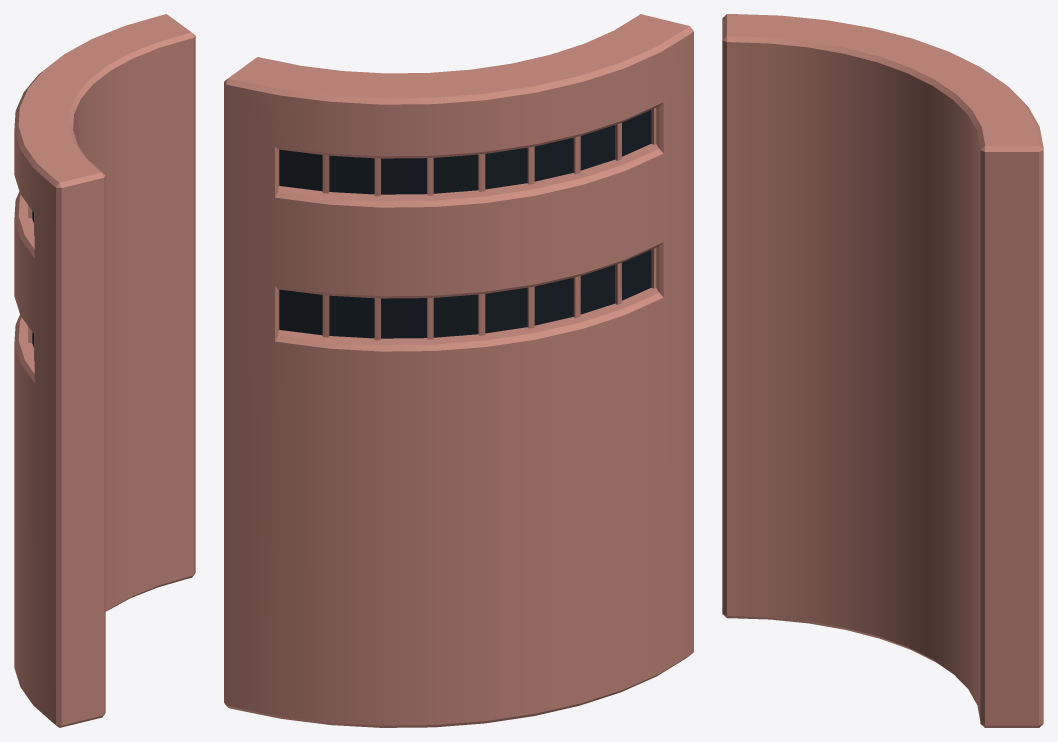
File: BasicWall5x10Windows.fbx
3 renders of one model, left to right at view 1: azimuth 30°, elevation 25°; view 2: azimuth 150°, elevation 25°; view 3: azimuth 270°, elevation 25°, orthographic. The views are drawn at different scales.
Visible parts, largest first — view 1: BasicWall5x10Windows_LOD0; view 2: BasicWall5x10Windows_LOD0; view 3: BasicWall5x10Windows_LOD0.
Part boxes in pixels (left/top/right/bottom): BasicWall5x10Windows_LOD0: left=14, top=14, right=195, bottom=727; BasicWall5x10Windows_LOD0: left=224, top=14, right=693, bottom=727; BasicWall5x10Windows_LOD0: left=722, top=14, right=1043, bottom=727.
Size of what is drawn, in the model's own units: 500 by 1000 by 500.
